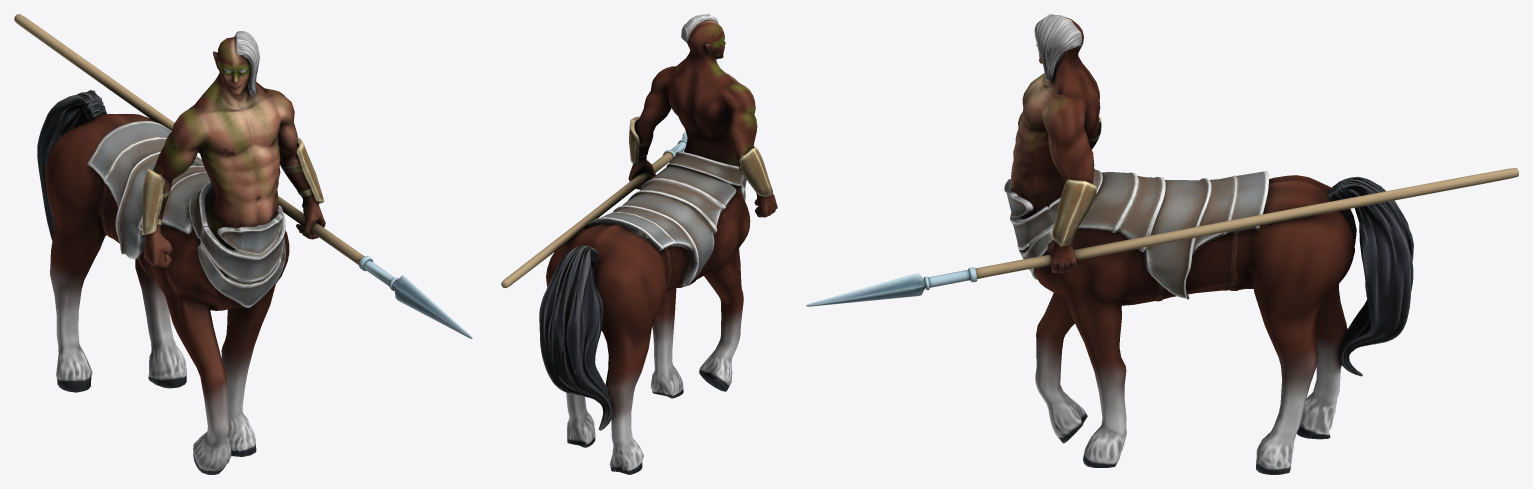
Rendered from MZ4250 - Centaur with spear.glb.
3 views of the same model, side by side, from view 1: azimuth 30°, elevation 25°; view 2: azimuth 150°, elevation 25°; view 3: azimuth 270°, elevation 25° (orthographic). The views are drawn at different scales.
Visible parts, largest first — view 1: body_low.001, spear_low.001; view 2: body_low.001, spear_low.001; view 3: body_low.001, spear_low.001.
Boxes of the visible parts, bbox=[...] form: body_low.001: bbox=[37, 31, 325, 474]; spear_low.001: bbox=[14, 14, 472, 338]; body_low.001: bbox=[539, 14, 777, 474]; spear_low.001: bbox=[501, 131, 687, 288]; body_low.001: bbox=[1004, 14, 1413, 474]; spear_low.001: bbox=[806, 168, 1518, 306].
Size of the model in its own units: 3.08 by 6.53 by 9.64.
1 material, 1 textured.
